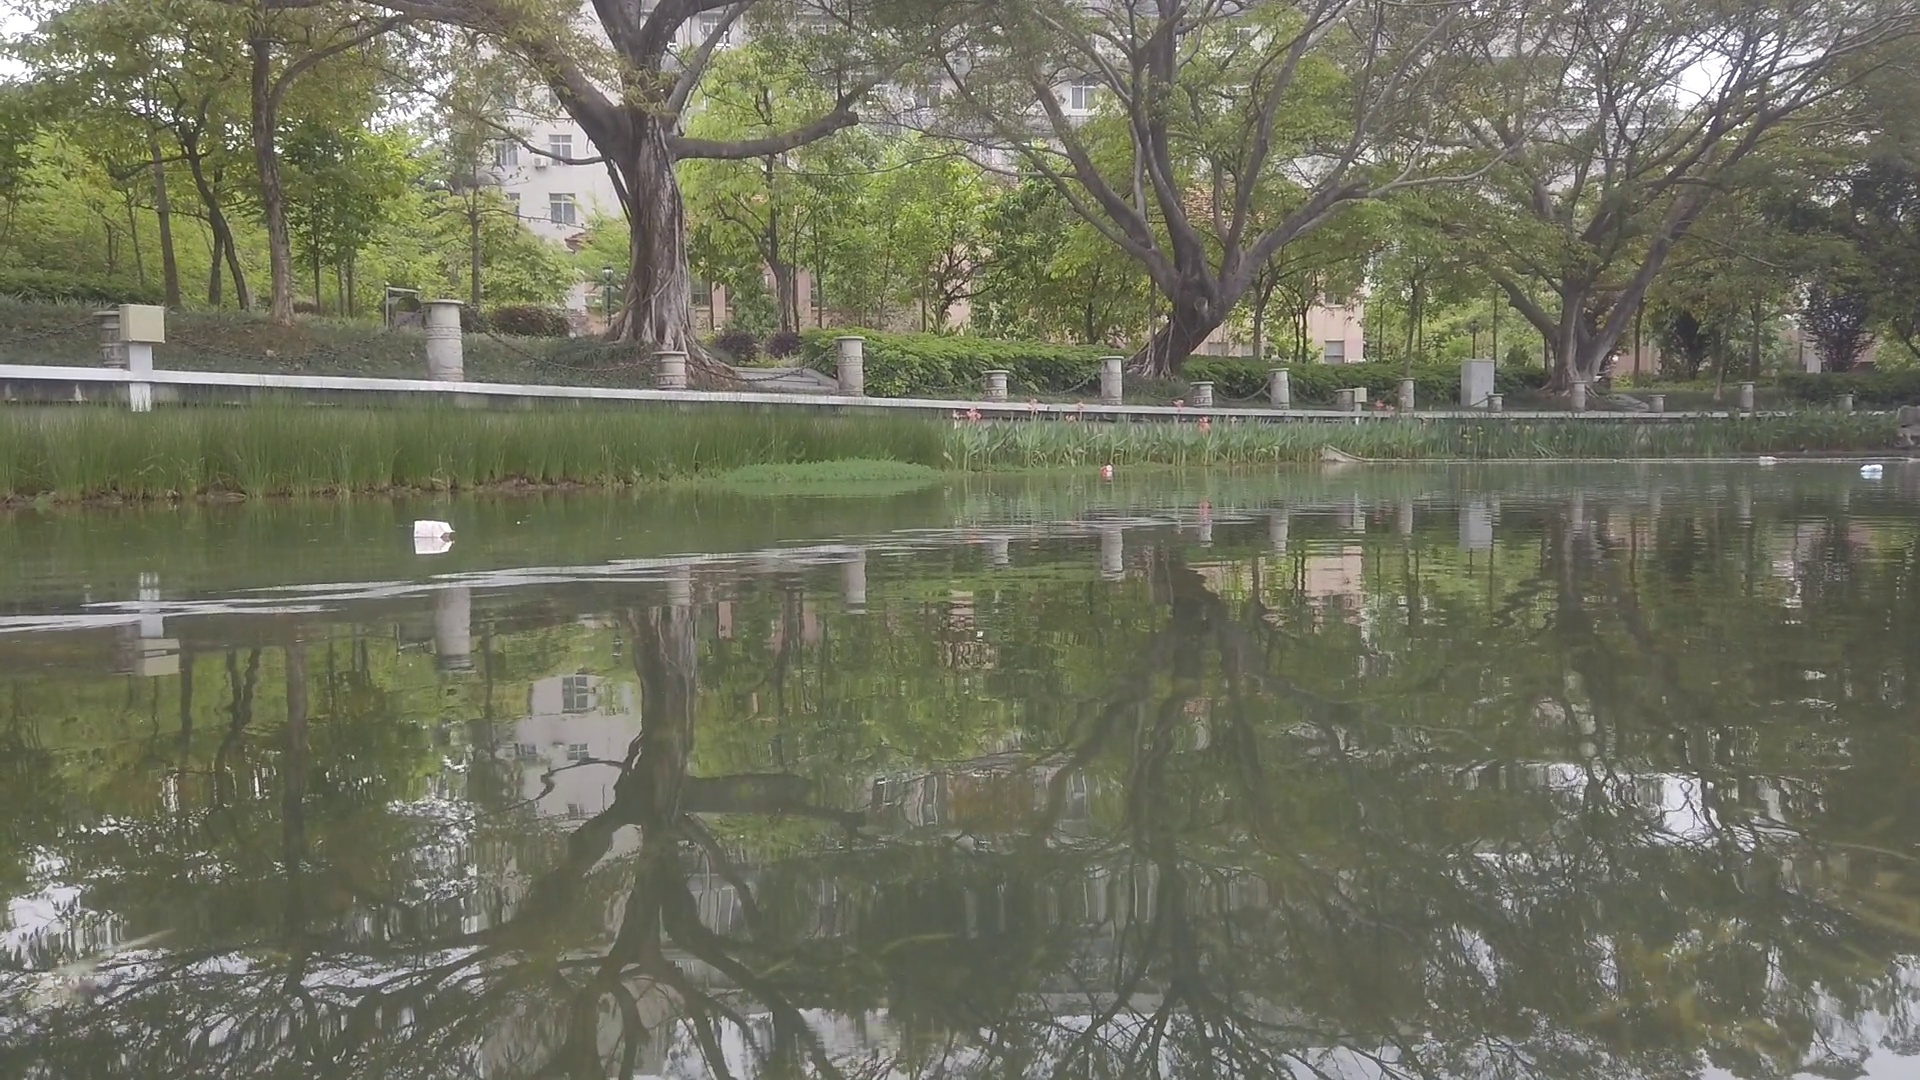bottle: (1863, 464, 1880, 472), (1760, 455, 1776, 463), (1102, 465, 1112, 473)
carton: (410, 520, 458, 537)
